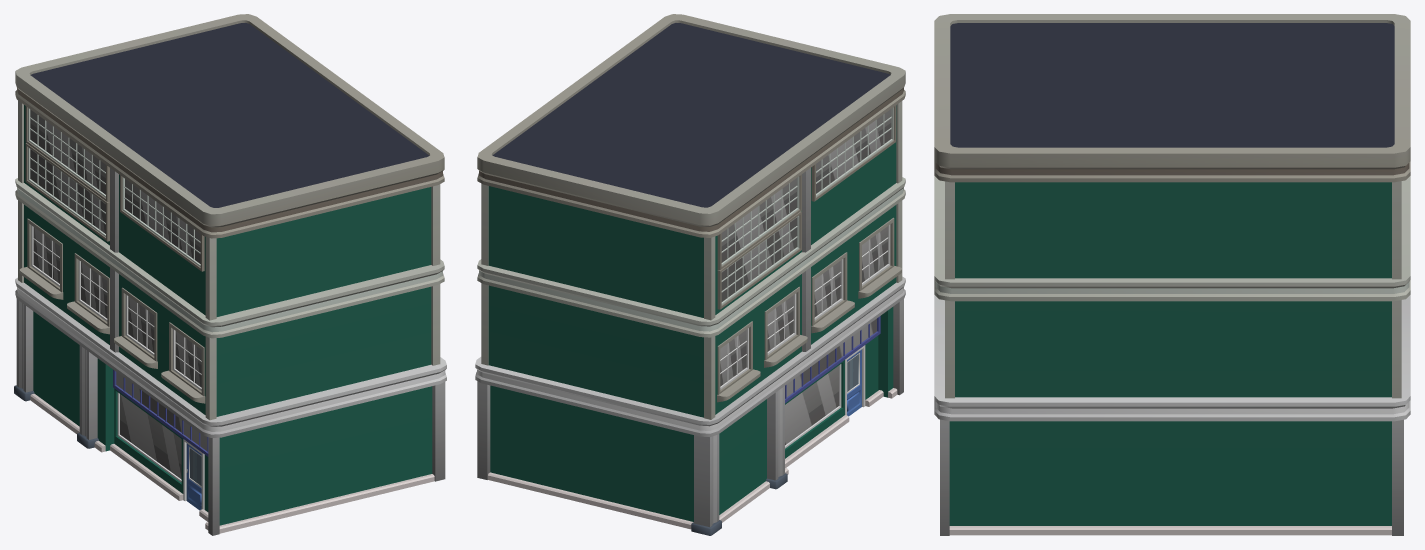
The model's file is Building_11_1_D.glb.
3 views of the same model, side by side, from view 1: azimuth 30°, elevation 25°; view 2: azimuth 150°, elevation 25°; view 3: azimuth 270°, elevation 25° (orthographic). The views are drawn at different scales.
Parts seen in each view (by area): view 1: Building_11_1_D; view 2: Building_11_1_D; view 3: Building_11_1_D.
Part boxes in pixels (x1,y1,x2,y2): Building_11_1_D: (14, 14, 446, 535); Building_11_1_D: (475, 14, 905, 535); Building_11_1_D: (934, 14, 1410, 535).
Bounding box in the file's own units: 8.27 × 10.34 × 11.63.
Materials: 3 (3 with a texture image).
